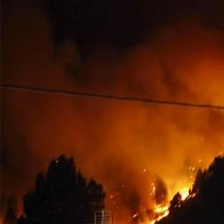fire: (142, 164, 205, 224)
